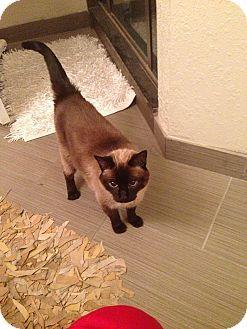siamese: (88, 142, 160, 211)
